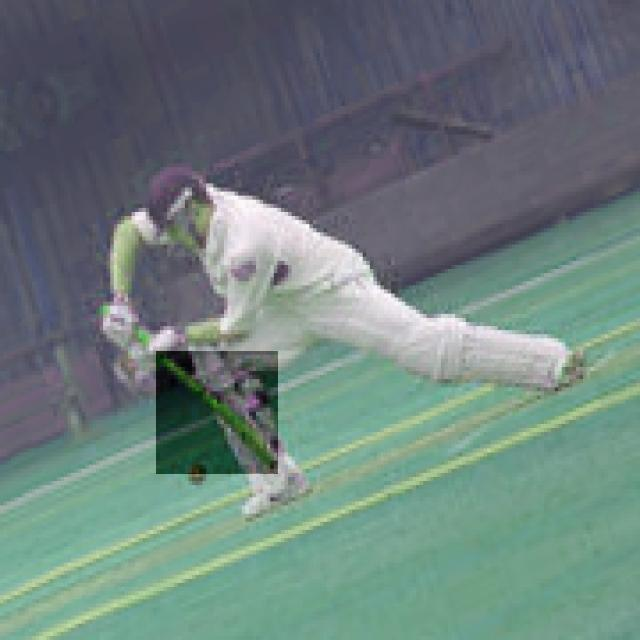bat: (157, 350, 277, 474)
